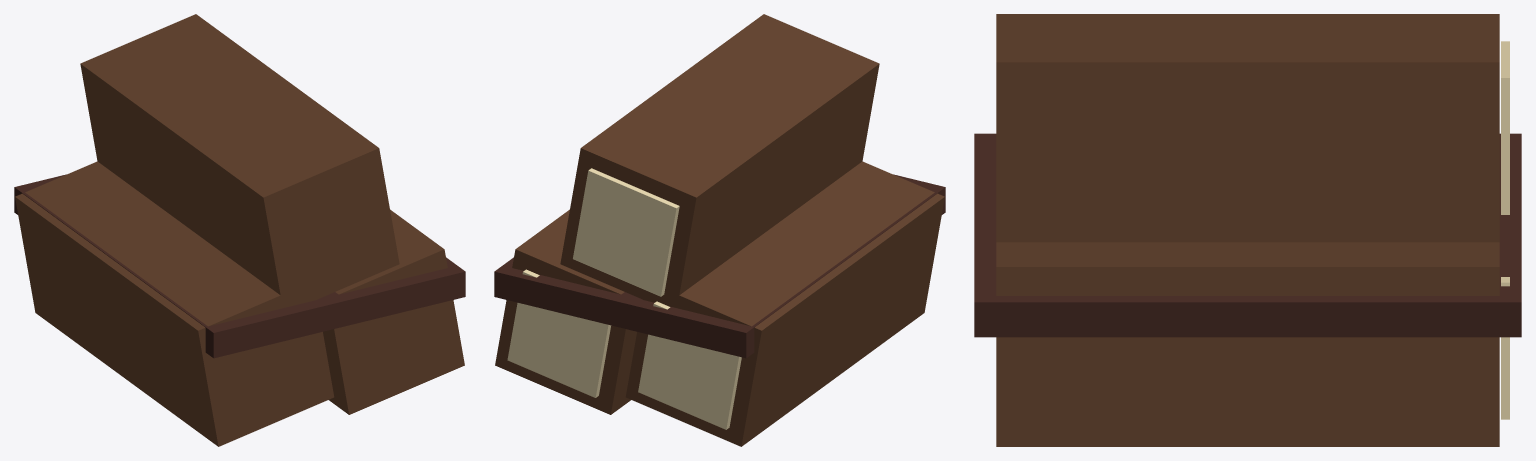
Rendered from timber.glb.
3 views of the same model, side by side, from view 1: azimuth 30°, elevation 25°; view 2: azimuth 150°, elevation 25°; view 3: azimuth 270°, elevation 25° (orthographic). The views are drawn at different scales.
Visible parts, largest first — view 1: timber; view 2: timber; view 3: timber.
Boxes of the visible parts, box(x1,y1,x2,y2) form: timber: box(14, 14, 465, 446); timber: box(494, 14, 945, 446); timber: box(974, 14, 1521, 446).
Bounding box in the file's own units: 1.43 × 1.33 × 1.85.
